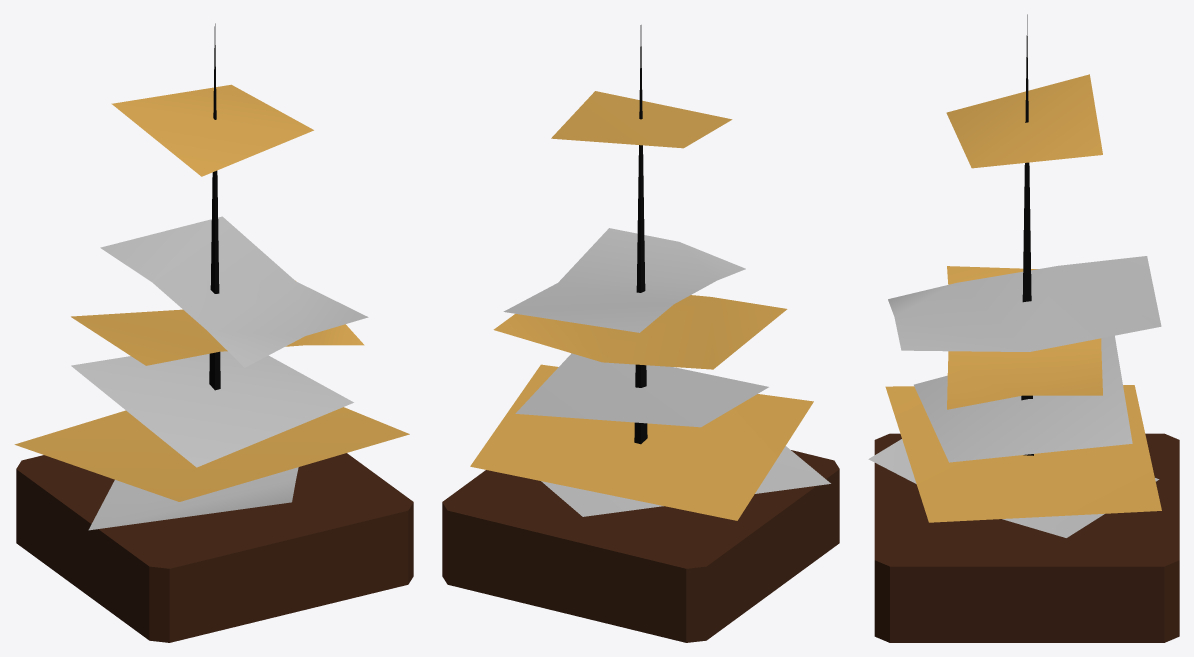
The model's file is PaperSpike_01.fbx.
3 views of the same model, side by side, from view 1: azimuth 30°, elevation 25°; view 2: azimuth 150°, elevation 25°; view 3: azimuth 270°, elevation 25° (orthographic). The views are drawn at different scales.
Parts seen in each view (by area): view 1: PaperSpike_01; view 2: PaperSpike_01; view 3: PaperSpike_01.
Part boxes in pixels (left/top/right/bottom): PaperSpike_01: left=14, top=23, right=413, bottom=642; PaperSpike_01: left=442, top=25, right=839, bottom=642; PaperSpike_01: left=868, top=14, right=1179, bottom=642.
Bounding box in the file's own units: 0.2393 × 0.4075 × 0.2045.
